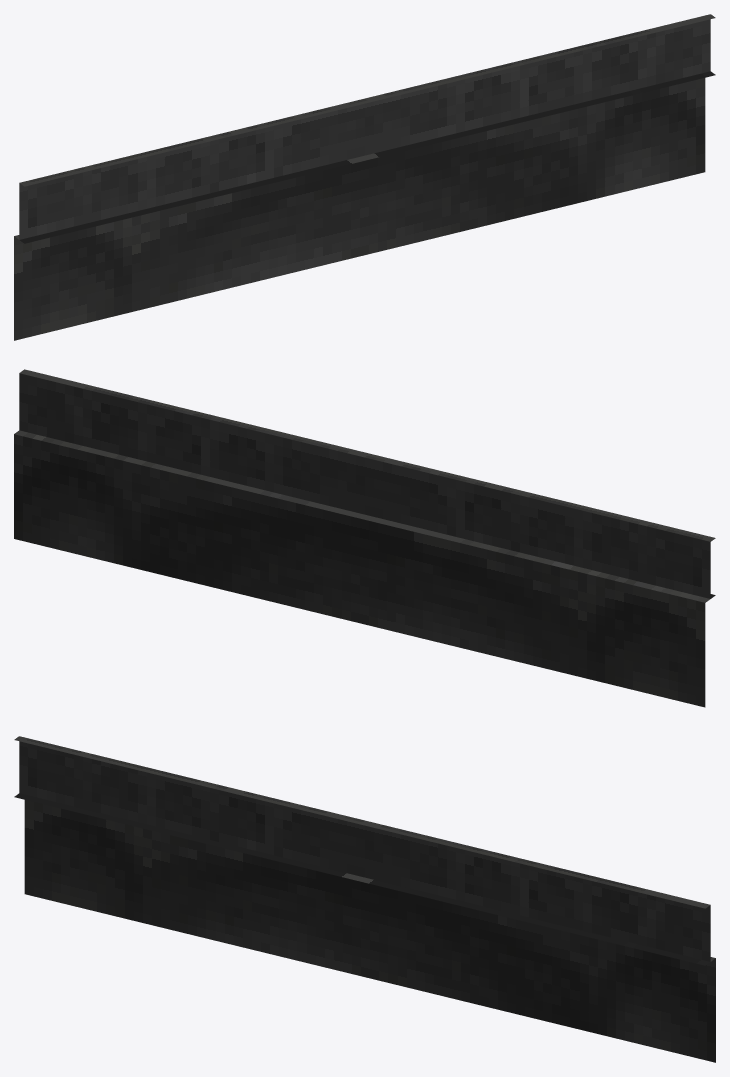
Rendered from MDL_Wall_Skirting.glb.
3 renders of one model, top to bottom at view 1: azimuth 30°, elevation 25°; view 2: azimuth 150°, elevation 25°; view 3: azimuth 330°, elevation 25°, orthographic.
Parts seen in each view (by area): view 1: M_Wall_Skirt; view 2: M_Wall_Skirt; view 3: M_Wall_Skirt.
Boxes of the visible parts, x1,y1,x2,y2 form: M_Wall_Skirt: [14, 14, 715, 340]; M_Wall_Skirt: [14, 369, 715, 707]; M_Wall_Skirt: [14, 736, 715, 1062].
Bounding box in the file's own units: 2.38 × 0.5312 × 0.0625.
1 material, 1 textured.
